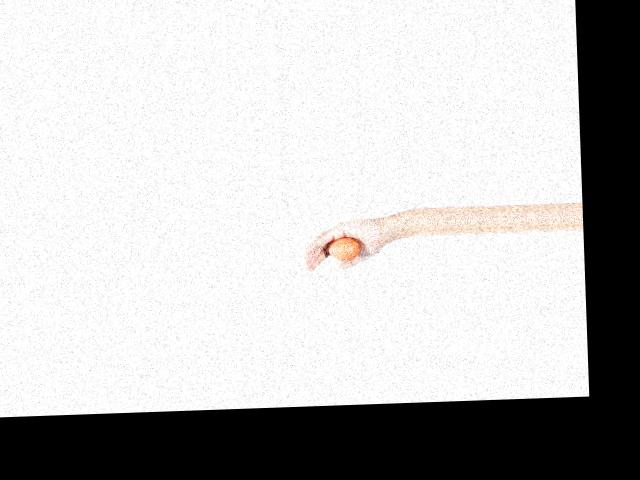egg: (328, 237, 359, 261)
